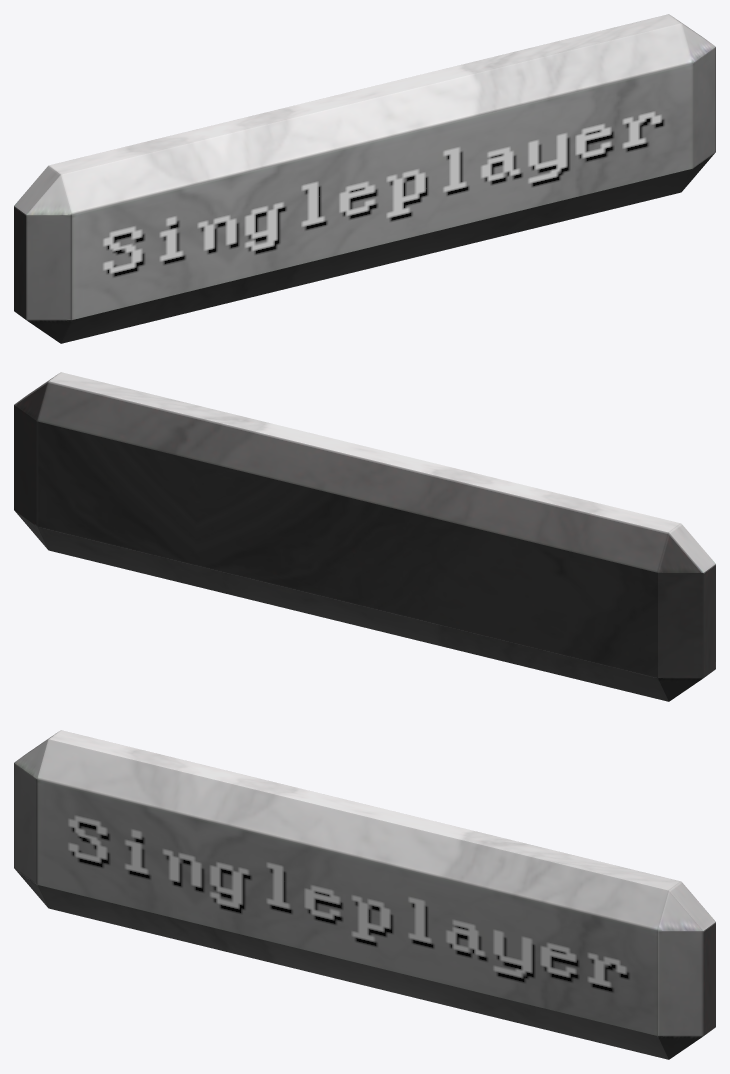
File: menubuttontop.gltf
3 views of the same model, one above another, from view 1: azimuth 30°, elevation 25°; view 2: azimuth 150°, elevation 25°; view 3: azimuth 330°, elevation 25° (orthographic).
Visible parts, largest first — view 1: Cube.001; view 2: Cube.001; view 3: Cube.001.
Part boxes in pixels (bbox=[...]): Cube.001: bbox=[14, 14, 715, 343]; Cube.001: bbox=[14, 372, 715, 701]; Cube.001: bbox=[14, 730, 715, 1059].
Size of the model in its own units: 2 by 0.4691 by 0.1753.
Materials: 1 (1 with a texture image).
